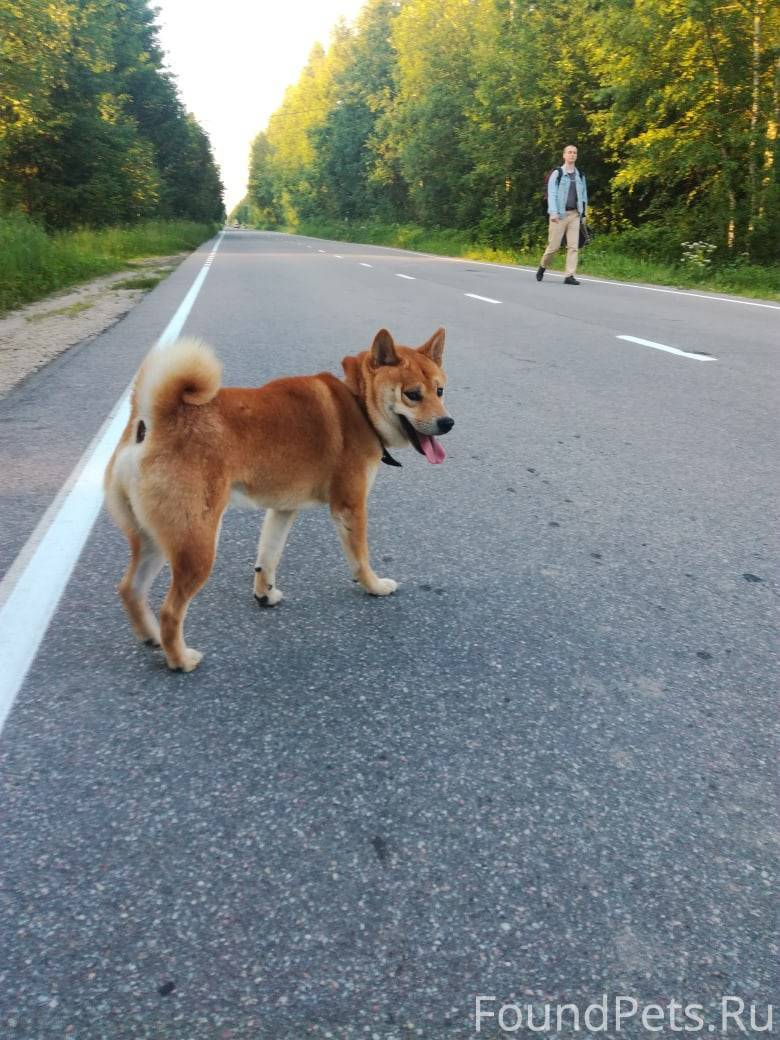kopek: (85, 315, 475, 701)
yaya: (525, 136, 599, 288)
